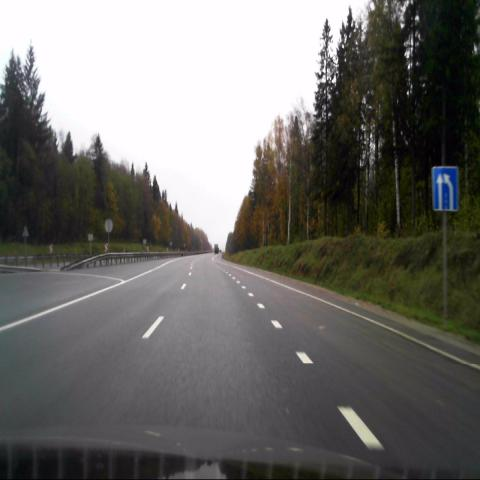5_15_5: (432, 167, 459, 213)
